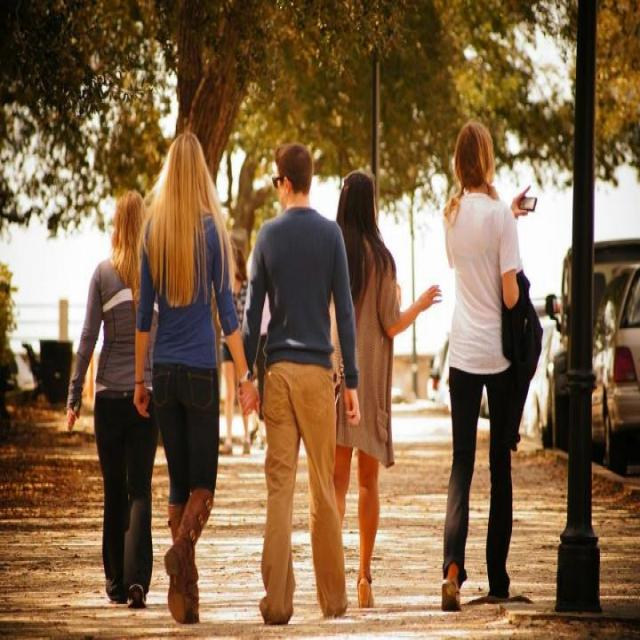adult: (241, 140, 359, 634), (135, 131, 250, 620), (441, 125, 543, 608), (330, 171, 440, 614), (63, 184, 152, 608)
